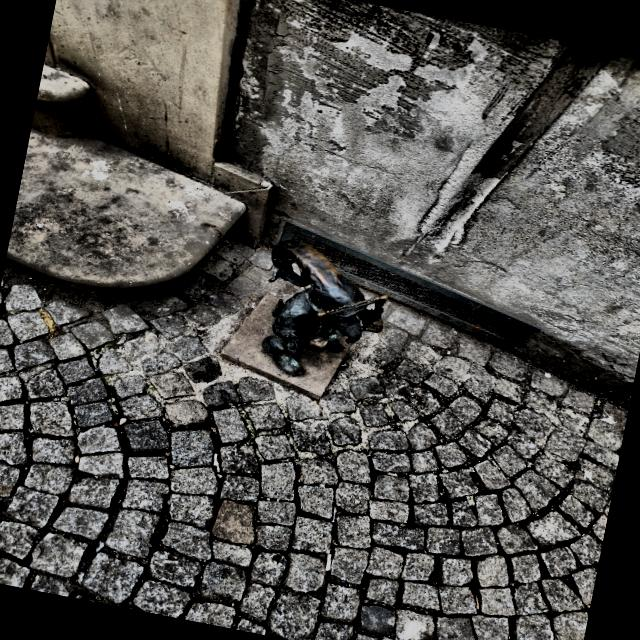Galeriusz: (262, 239, 387, 375)
